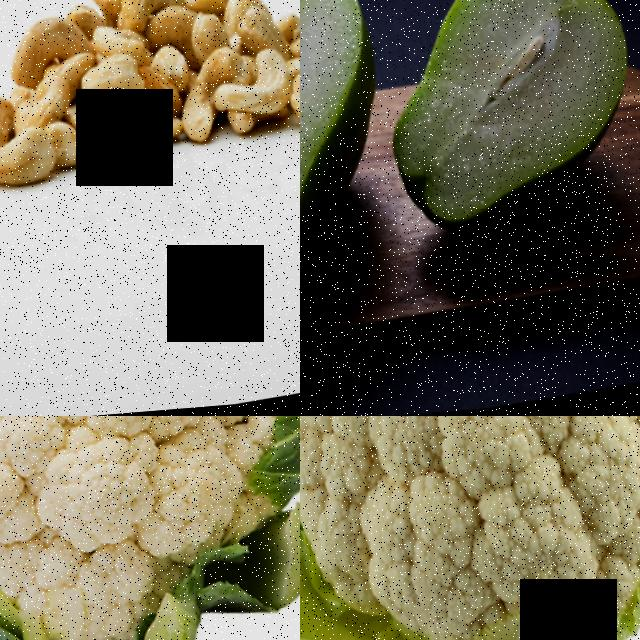cashew: (152, 73, 233, 180), (0, 9, 87, 94), (217, 50, 291, 133), (78, 44, 146, 127), (0, 71, 69, 134), (0, 128, 47, 218), (92, 0, 172, 40), (218, 5, 268, 65), (175, 9, 226, 56), (281, 21, 300, 85), (284, 82, 300, 144)
cauliflower: (300, 416, 640, 640), (0, 416, 300, 640)
chayote: (367, 0, 640, 270), (300, 0, 413, 333)
